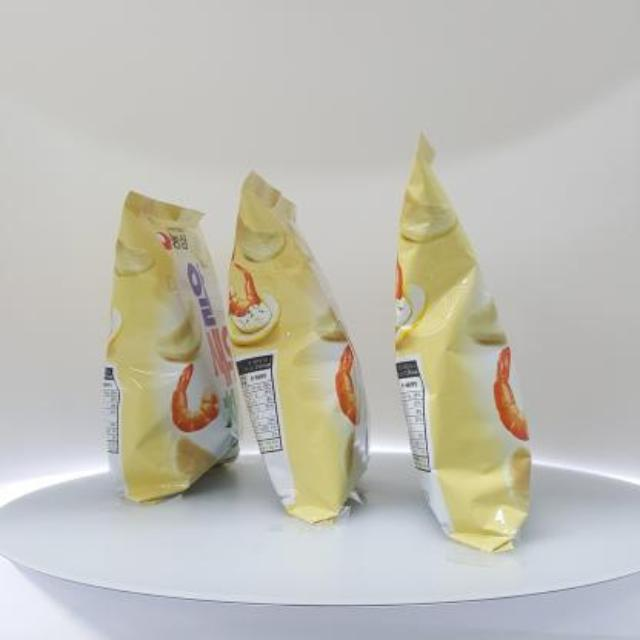snack_bag: (84, 120, 568, 564)
